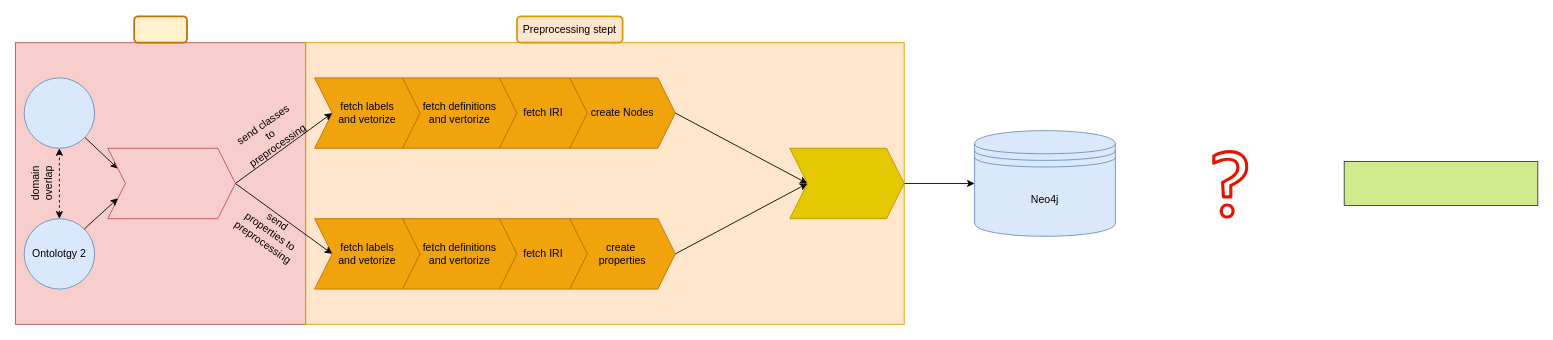
This 1553x340 diagram has some shape labels left out. The shapes that lost their labels are listed below. From the top down, each one's centre as x and y in pixels, then its label:
At point (160, 29): "Input".
At point (59, 112): "Ontology 1".
At point (171, 183): "sort into classes and properties".
At point (846, 183): "connect nodes with properties".
At point (1440, 183): "Candidate Alignment".
